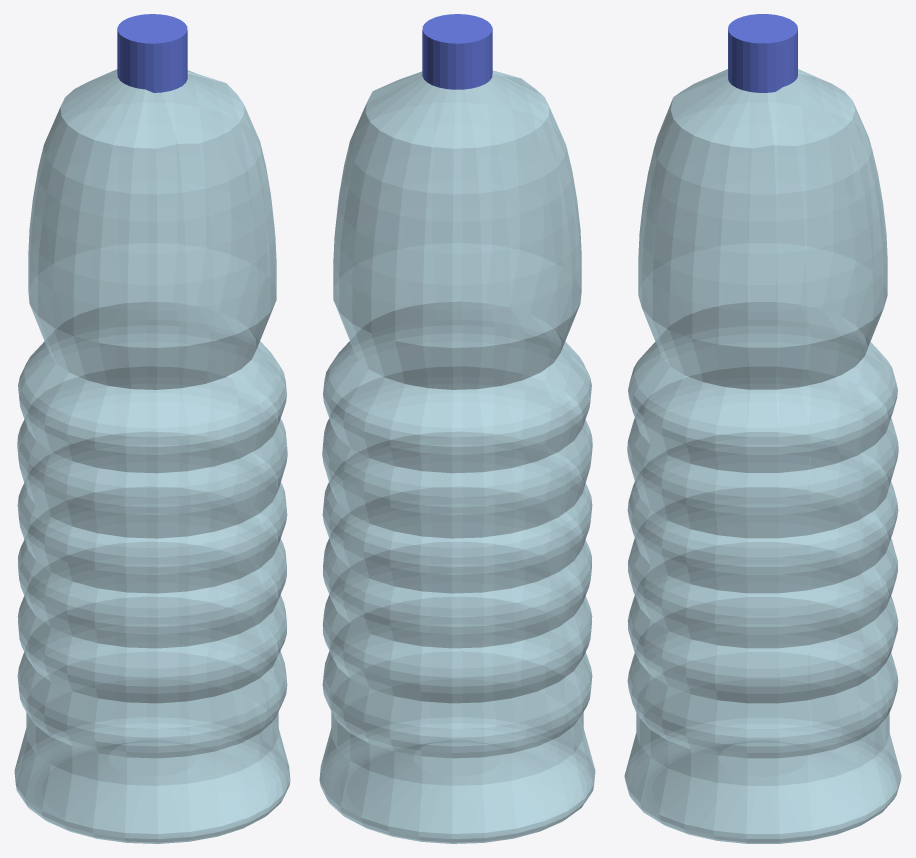
Rendered from Бутылка воды.fbx.
The picture shows the model from 3 angles, left to right: view 1: azimuth 30°, elevation 25°; view 2: azimuth 150°, elevation 25°; view 3: azimuth 270°, elevation 25°; orthographic projection.
Visible parts, largest first — view 1: Cylinder.002; view 2: Cylinder.002; view 3: Cylinder.002.
Boxes of the visible parts, x1,y1,x2,y2 form: Cylinder.002: (14, 14, 290, 843); Cylinder.002: (319, 14, 595, 843); Cylinder.002: (624, 14, 901, 843).
Bounding box in the file's own units: 26.71 × 81.69 × 26.9.
